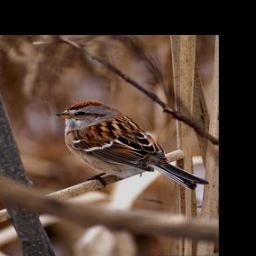Sparrow: (50, 99, 209, 190)
